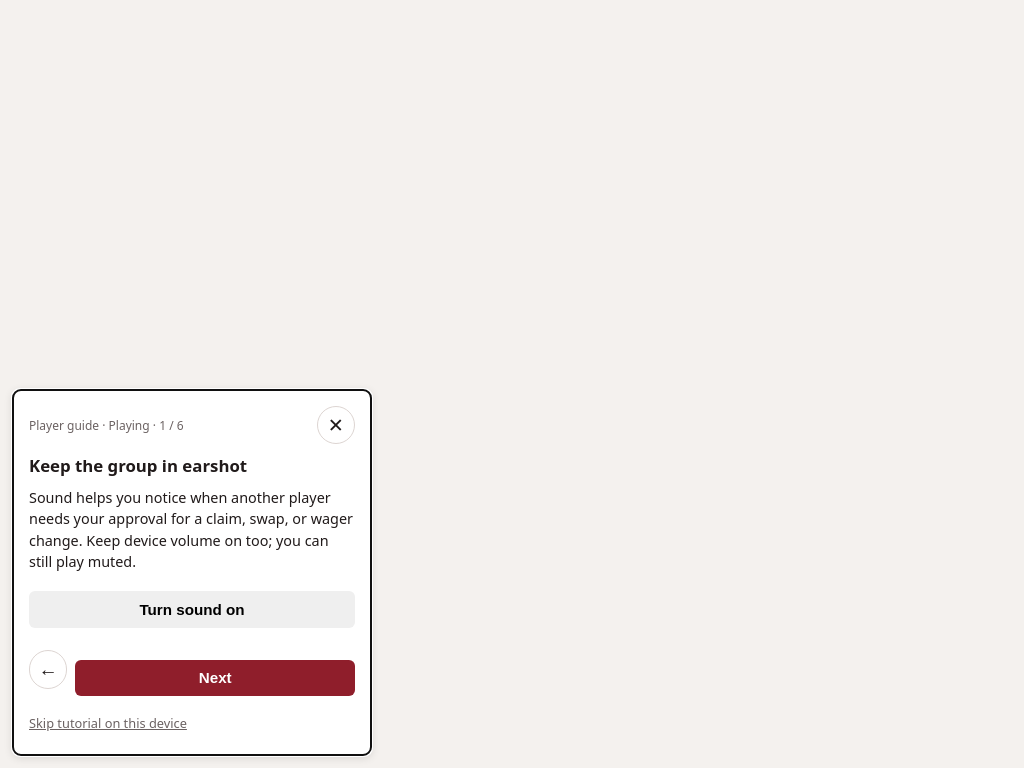
Test: GuidedTutorial › explains automatic proposer approval and solo acceptance during live play
Click the button "Next" at (215, 678), box [75,660,355,696]
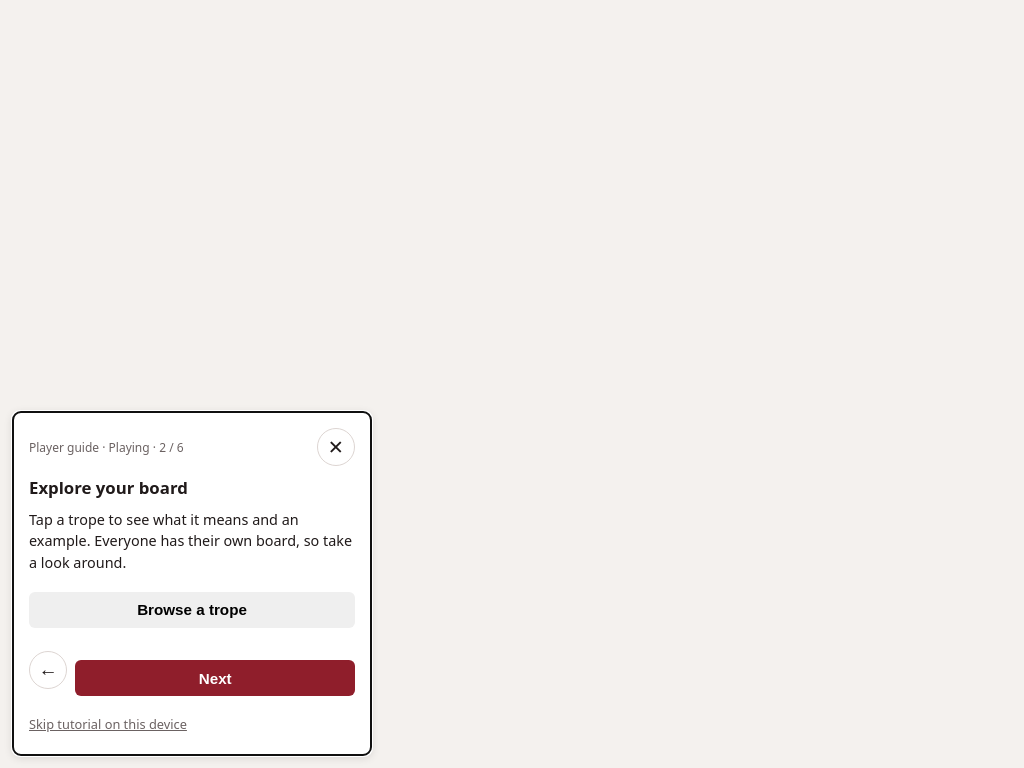
Click the button "Next" at (215, 678), box [75,660,355,696]
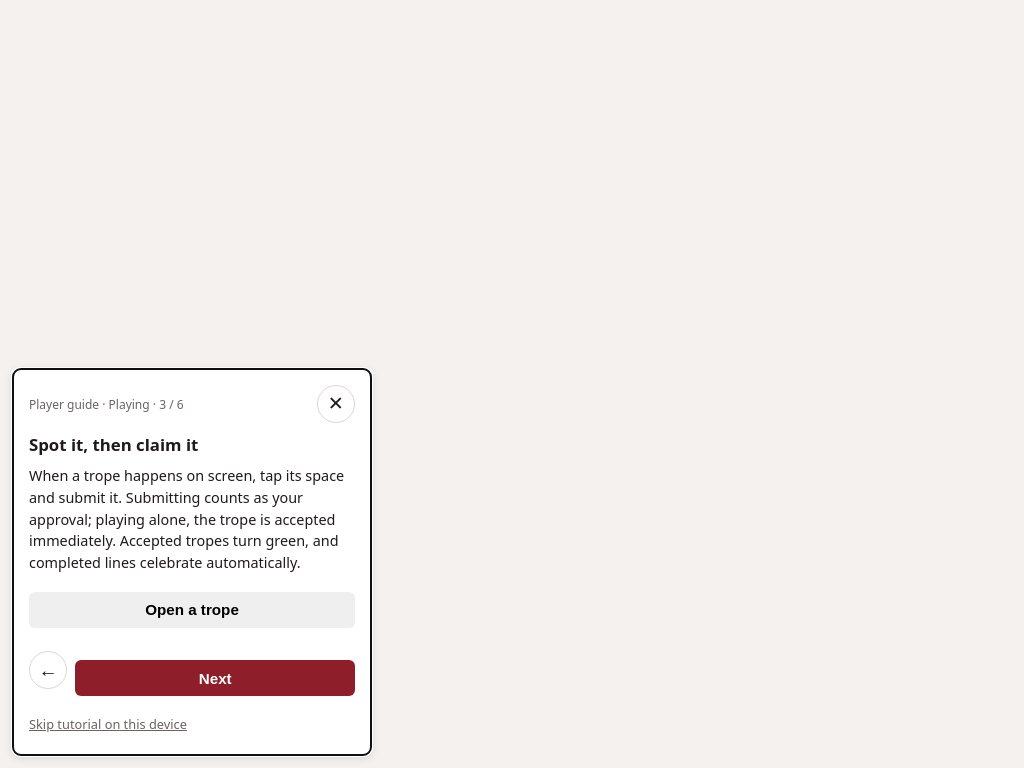
Now the text "Submitting counts as your approval; playing alone" is shown, box [29,466,344,572]
Click the button "Next" at (215, 678), box [75,660,355,696]
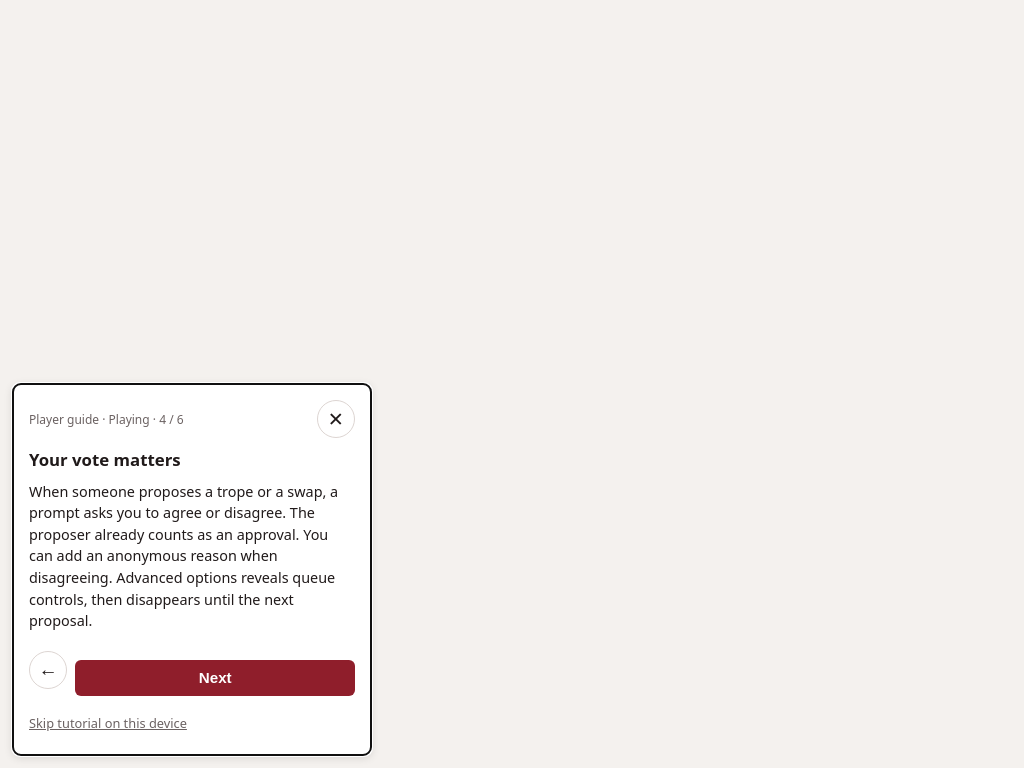
Now the text "Advanced options reveals queue controls, then disappears" is shown, box [29,482,338,630]
